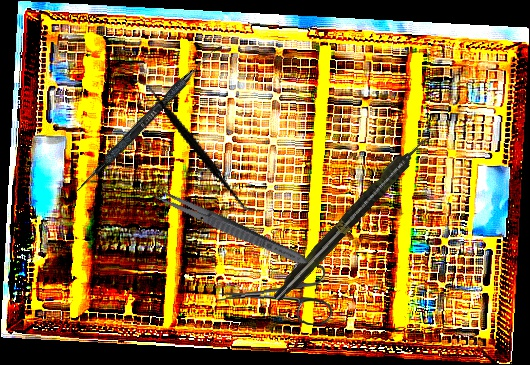Dressing Forceps: (148, 185, 312, 270)
Handpiece: (269, 129, 436, 306)
Iris Scissors: (214, 261, 333, 330)
Spatula Surgical: (105, 76, 288, 215), (74, 38, 223, 198)
